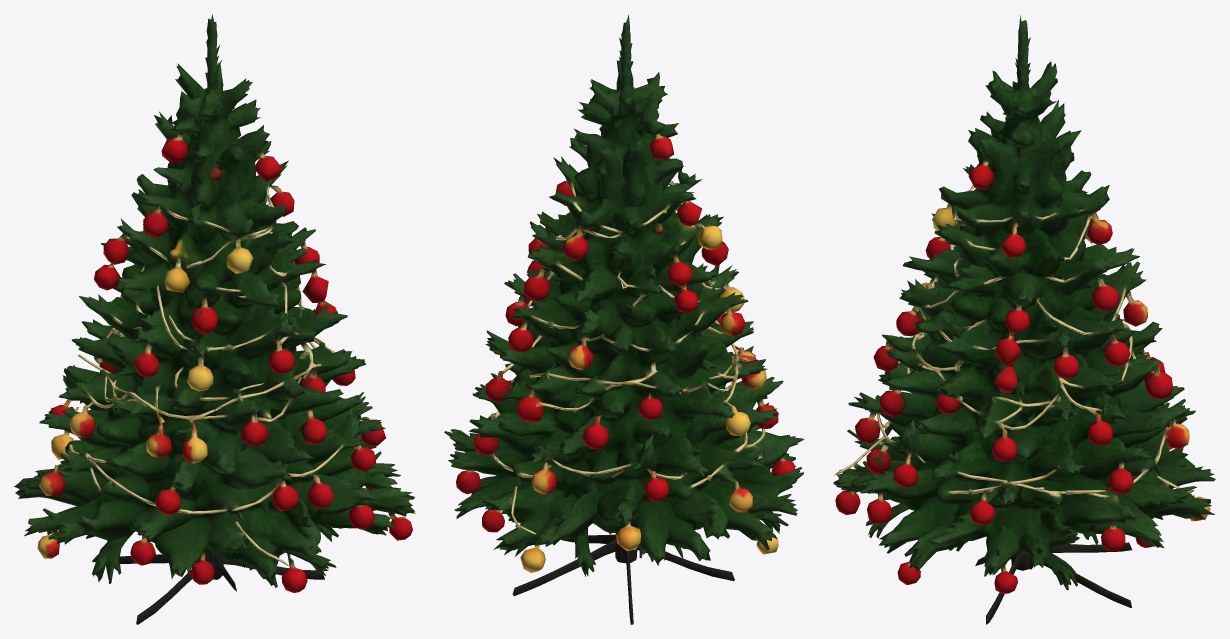
File: praia_natal.glb
3 renders of one model, left to right at view 1: azimuth 30°, elevation 25°; view 2: azimuth 150°, elevation 25°; view 3: azimuth 270°, elevation 25°, orthographic. The views are drawn at different scales.
Parts seen in each view (by area): view 1: tripo_node_cde0b1ce-aaac-4030-b399-660df98a6586; view 2: tripo_node_cde0b1ce-aaac-4030-b399-660df98a6586; view 3: tripo_node_cde0b1ce-aaac-4030-b399-660df98a6586.
Boxes of the visible parts, x1,y1,x2,y2 form: tripo_node_cde0b1ce-aaac-4030-b399-660df98a6586: [14, 14, 415, 624]; tripo_node_cde0b1ce-aaac-4030-b399-660df98a6586: [444, 14, 804, 624]; tripo_node_cde0b1ce-aaac-4030-b399-660df98a6586: [833, 15, 1215, 624].
Bounding box in the file's own units: 0.6052 × 0.9725 × 0.5969.
Materials: 1 (1 with a texture image).
